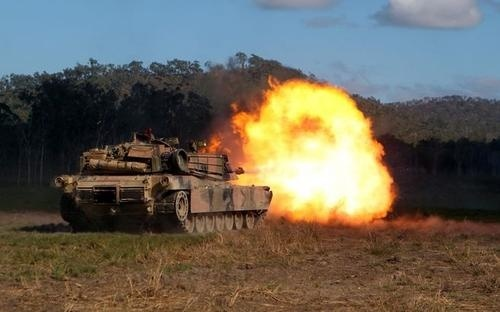fire: (222, 74, 401, 219)
